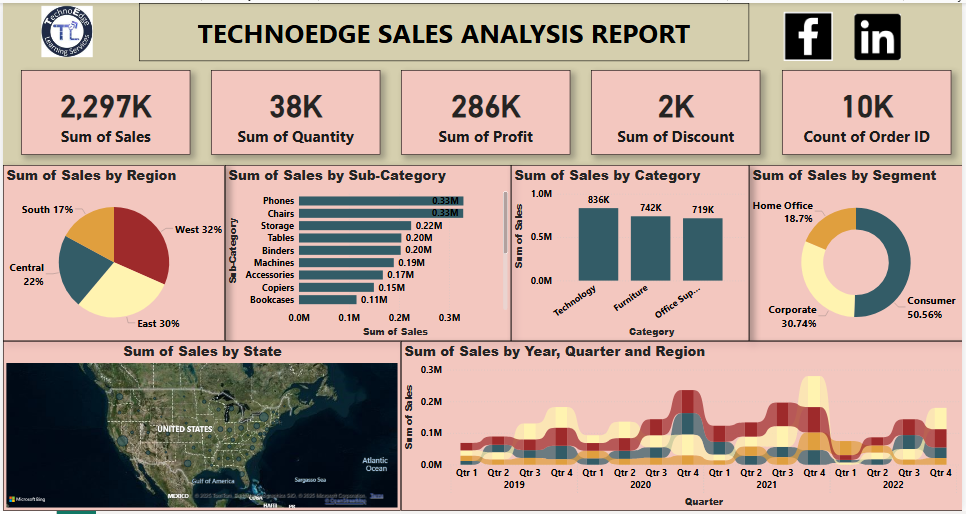

The page's visual inventory and layout, read from the dashboard file:
{"tool":"powerbi","page":{"name":"Page 1","canvas":[1700,900],"ordinal":0},"visuals":[{"type":"barChart","fields":{"Category":["TechnoEdge Monthy Sales Data.Sub-Category"],"Y":["Sum(TechnoEdge Monthy Sales Data.Sales)"]},"box":[393.3,287,506.7,311.8],"z":0},{"type":"pieChart","fields":{"Y":["Sum(TechnoEdge Monthy Sales Data.Sales)"],"Category":["TechnoEdge Monthy Sales Data.Region"]},"box":[0,287,393.3,311.8],"z":1000},{"type":"donutChart","fields":{"Category":["TechnoEdge Monthy Sales Data.Segment"],"Y":["Sum(TechnoEdge Monthy Sales Data.Sales)"]},"box":[1321.7,287,379.1,311.8],"z":2000},{"type":"columnChart","fields":{"Category":["TechnoEdge Monthy Sales Data.Category"],"Y":["Sum(TechnoEdge Monthy Sales Data.Sales)"]},"box":[900,287,421.7,311.8],"z":3000},{"type":"ribbonChart","fields":{"Category":["TechnoEdge Monthy Sales Data.Order Date.Variation.Date Hierarchy.Year","TechnoEdge Monthy Sales Data.Order Date.Variation.Date Hierarchy.Quarter","TechnoEdge Monthy Sales Data.Order Date.Variation.Date Hierarchy.Month","TechnoEdge Monthy Sales Data.Order Date.Variation.Date Hierarchy.Day"],"Y":["Sum(TechnoEdge Monthy Sales Data.Sales)"],"Series":["TechnoEdge Monthy Sales Data.Region"]},"box":[705.1,598.8,995.7,301.2],"z":4000},{"type":"map","fields":{"Category":["TechnoEdge Monthy Sales Data.State"],"Size":["Sum(TechnoEdge Monthy Sales Data.Sales)"]},"box":[0,598.8,705.1,301.2],"z":5000},{"type":"card","fields":{"Values":["Sum(TechnoEdge Monthy Sales Data.Sales)"]},"box":[31.9,117.8,300,150],"z":6000},{"type":"card","fields":{"Values":["Sum(TechnoEdge Monthy Sales Data.Quantity)"]},"box":[368.8,117.8,300,150],"z":7000},{"type":"card","fields":{"Values":["Sum(TechnoEdge Monthy Sales Data.Profit)"]},"box":[705.6,117.8,300,150],"z":8000},{"type":"card","fields":{"Values":["Sum(TechnoEdge Monthy Sales Data.Discount)"]},"box":[1042.5,117.8,300,150],"z":9000},{"type":"card","fields":{"Values":["CountNonNull(TechnoEdge Monthy Sales Data.Order ID)"]},"box":[1379.4,117.8,300,150],"z":10000},{"type":"actionButton","box":[240.9,0,1080.7,102.8],"z":11000},{"type":"image","box":[0,0,226.8,101],"z":12000},{"type":"image","box":[1454.5,14.2,189.6,92.1],"z":13000},{"type":"image","box":[1357.1,10.6,140,97.4],"z":13001}]}

Visuals, with their boxes in screenshot pixels (x1, y1, x2, y2), scaled from the page's 1700x900 canvas onto the 966x514 screenshot:
barChart - TechnoEdge Monthy Sales Data.Sub-Category x Sum(TechnoEdge Monthy Sales Data.Sales): bbox(223, 164, 511, 342)
pieChart - Sum(TechnoEdge Monthy Sales Data.Sales) x TechnoEdge Monthy Sales Data.Region: bbox(0, 164, 223, 342)
donutChart - TechnoEdge Monthy Sales Data.Segment x Sum(TechnoEdge Monthy Sales Data.Sales): bbox(751, 164, 965, 342)
columnChart - TechnoEdge Monthy Sales Data.Category x Sum(TechnoEdge Monthy Sales Data.Sales): bbox(511, 164, 751, 342)
ribbonChart - TechnoEdge Monthy Sales Data.Order Date.Variation.Date Hierarchy.Year x TechnoEdge Monthy Sales Data.Order Date.Variation.Date Hierarchy.Quarter: bbox(401, 342, 965, 513)
map - TechnoEdge Monthy Sales Data.State x Sum(TechnoEdge Monthy Sales Data.Sales): bbox(0, 342, 401, 513)
card - Sum(TechnoEdge Monthy Sales Data.Sales): bbox(18, 67, 189, 153)
card - Sum(TechnoEdge Monthy Sales Data.Quantity): bbox(210, 67, 380, 153)
card - Sum(TechnoEdge Monthy Sales Data.Profit): bbox(401, 67, 571, 153)
card - Sum(TechnoEdge Monthy Sales Data.Discount): bbox(592, 67, 763, 153)
card - CountNonNull(TechnoEdge Monthy Sales Data.Order ID): bbox(784, 67, 954, 153)
actionButton: bbox(137, 0, 751, 59)
image: bbox(0, 0, 129, 58)
image: bbox(826, 8, 934, 61)
image: bbox(771, 6, 851, 62)
